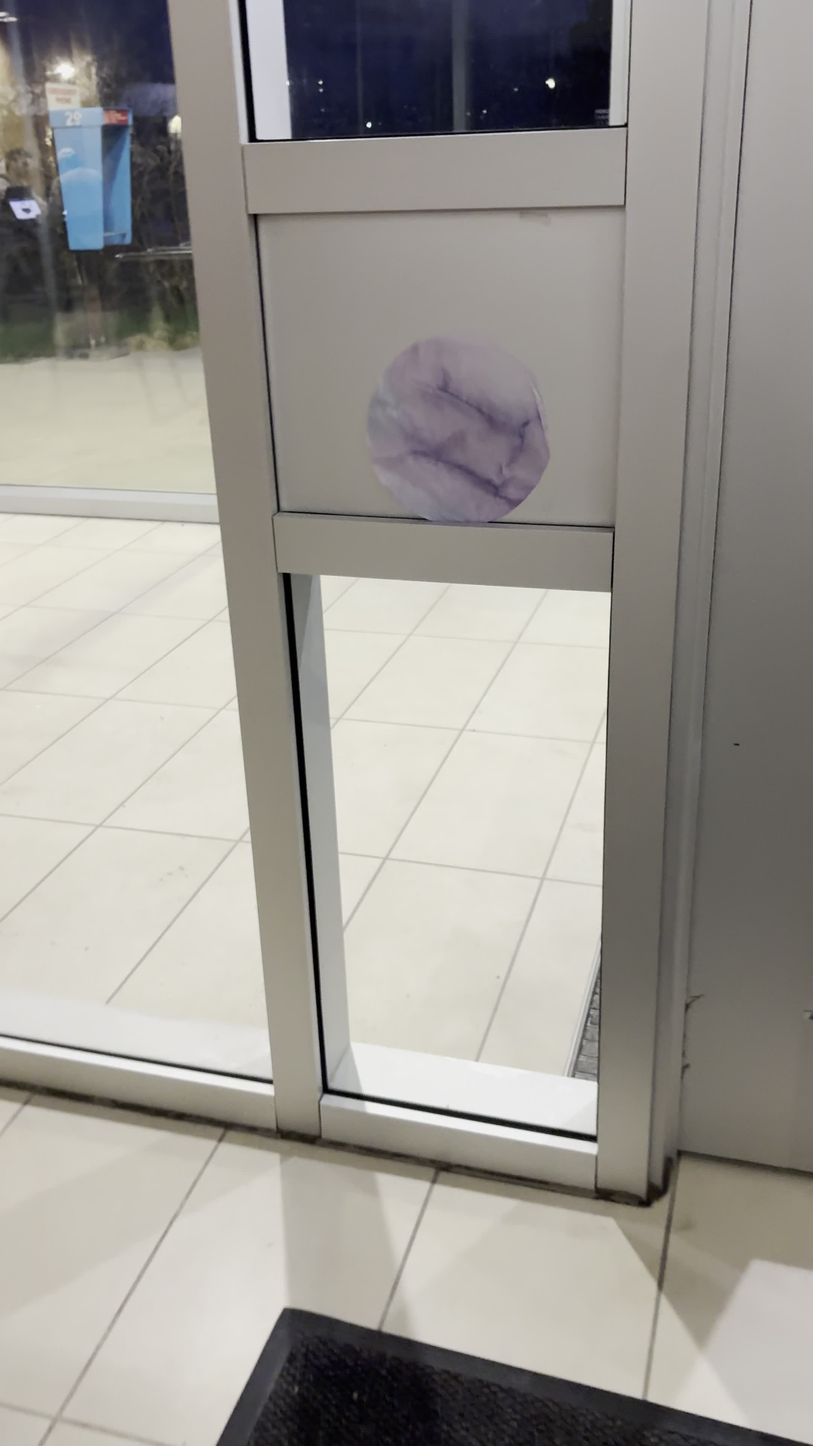Target: (364, 329, 554, 529)
